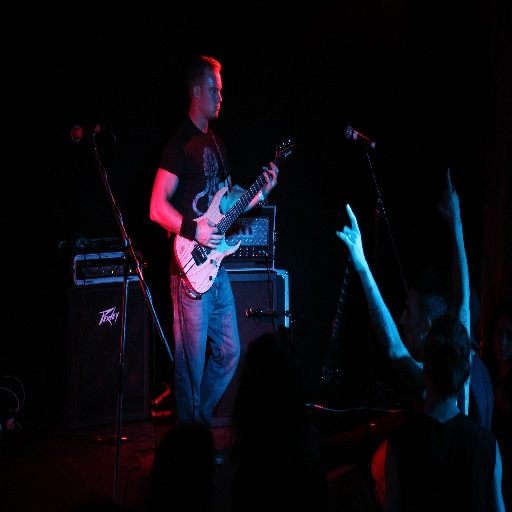hand: (338, 218, 369, 282), (436, 170, 462, 227), (194, 214, 224, 250), (261, 160, 280, 194)
